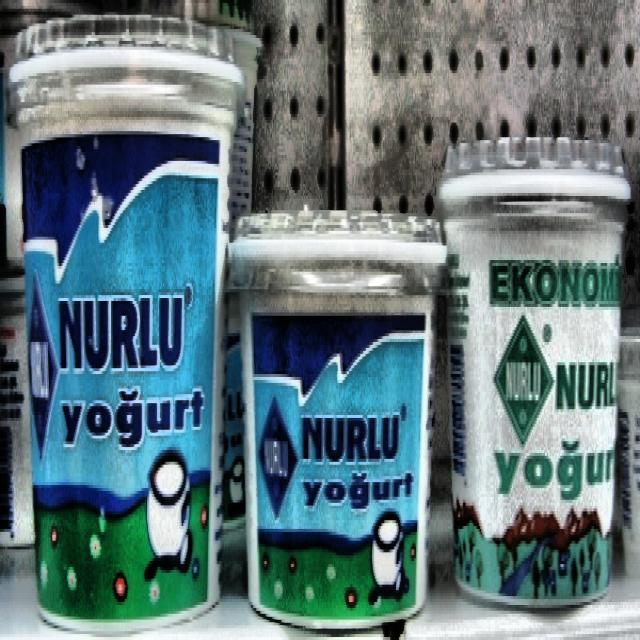plastic: (8, 17, 242, 628), (230, 212, 445, 627), (440, 140, 629, 601)
